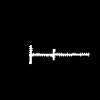double_crochet: (29, 45, 88, 63)
